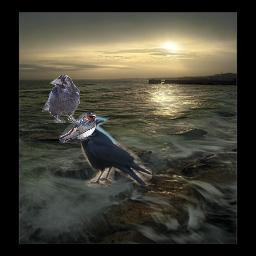Crow: (79, 114, 152, 188), (42, 74, 80, 123)
Swallow: (59, 113, 96, 143)
